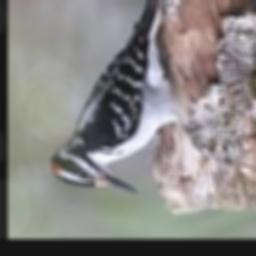Woodpecker: (51, 0, 181, 194)
